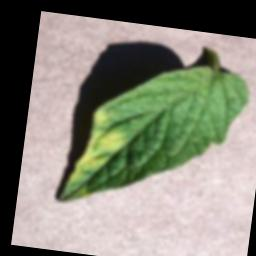Leaf_Mold: (67, 103, 132, 189)
